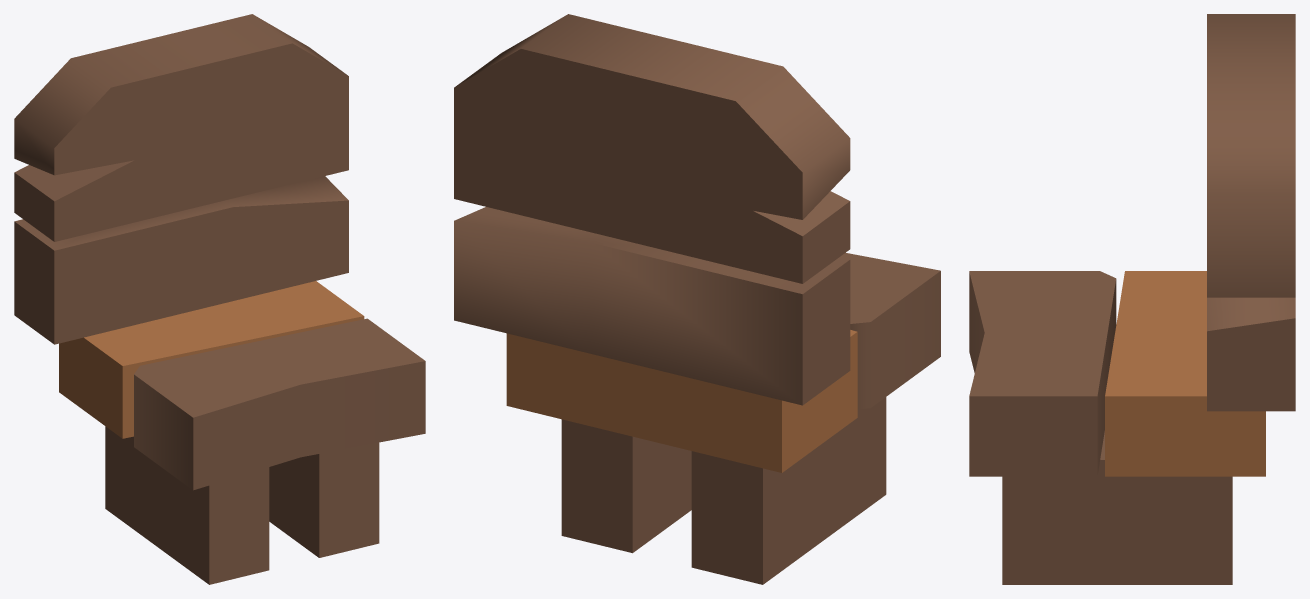
File: Wooden_Chair.fbx
3 views of the same model, side by side, from view 1: azimuth 30°, elevation 25°; view 2: azimuth 150°, elevation 25°; view 3: azimuth 270°, elevation 25° (orthographic). The views are drawn at different scales.
Visible parts, largest first — view 1: 3-Chair; view 2: 3-Chair; view 3: 3-Chair.
Part boxes in pixels (left/top/right/bottom): 3-Chair: left=14, top=14, right=425, bottom=584; 3-Chair: left=454, top=14, right=940, bottom=584; 3-Chair: left=969, top=14, right=1295, bottom=584.
Bounding box in the file's own units: 0.6173 × 0.5364 × 0.863.
